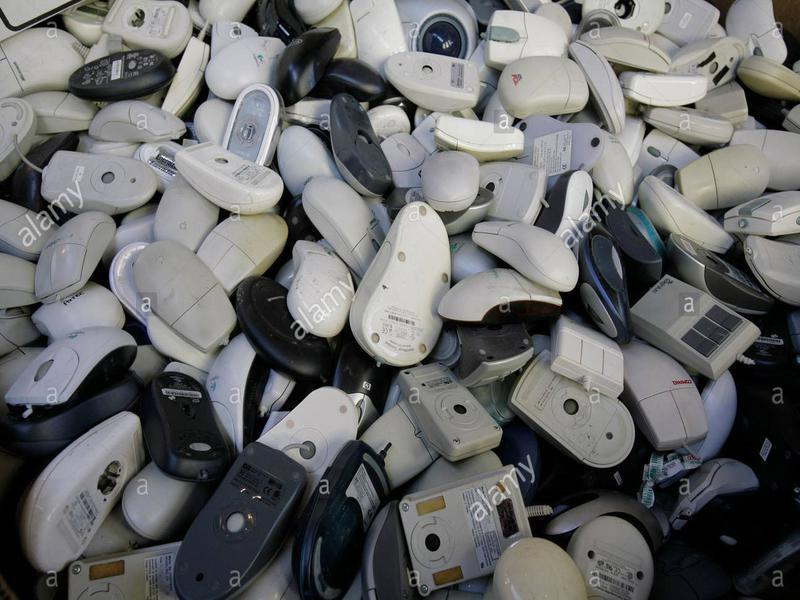mouse: (17, 403, 148, 581), (353, 193, 455, 375), (127, 241, 245, 355), (4, 324, 142, 413), (390, 360, 505, 464), (137, 373, 241, 481), (622, 341, 718, 447), (469, 211, 583, 295), (169, 139, 290, 214), (281, 236, 361, 341), (537, 315, 635, 400), (32, 208, 119, 303), (33, 152, 161, 214), (672, 143, 779, 209), (495, 54, 595, 121), (271, 23, 344, 108), (65, 46, 176, 101), (577, 19, 676, 76), (422, 113, 529, 163), (84, 98, 189, 147), (617, 68, 711, 111)
